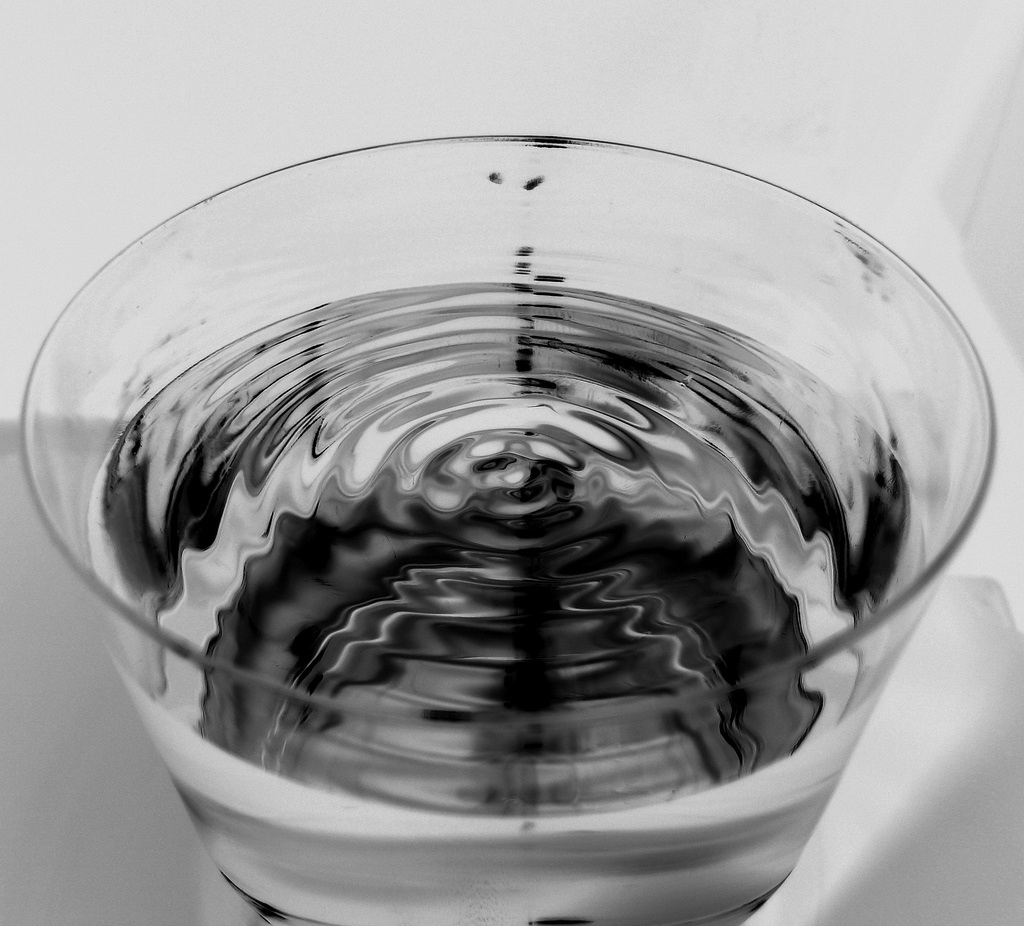glass of water: (43, 148, 946, 926)
